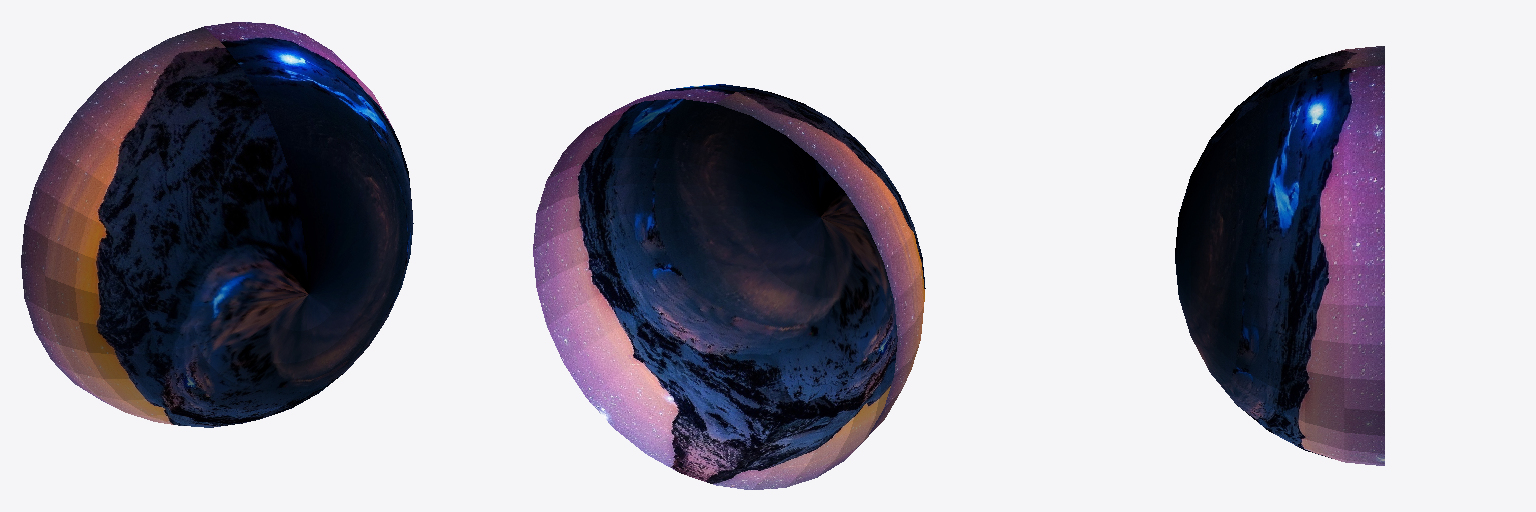
The picture shows the model from 3 angles: view 1: azimuth 30°, elevation 25°; view 2: azimuth 150°, elevation 25°; view 3: azimuth 270°, elevation 25°; orthographic projection.
Parts seen in each view (by area): view 1: Sphere001; view 2: Sphere001; view 3: Sphere001.
Boxes of the visible parts, <box> form: Sphere001: <box>21,22,413,427</box>; Sphere001: <box>533,84,925,489</box>; Sphere001: <box>1175,46,1384,465</box>.
Size of the model in its own units: 240 by 240 by 120.
1 materials, 1 textured.